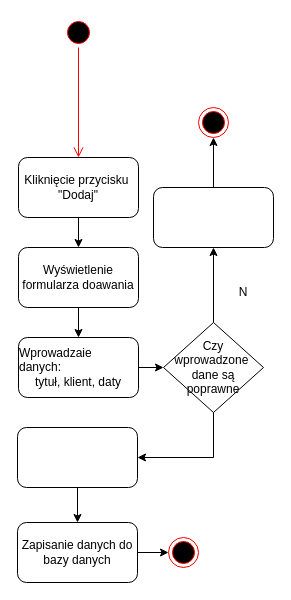
This 291x600 diagram has some shape labels left out. The shapes that lost their labels are listed below. From the top down, each one's box as (x1, y1, x2, y2) in pixels, then its label:
(152, 186, 274, 248): Wyświetlenie komunikatu o błędzie
(16, 426, 138, 488): Wysłanie post do API
